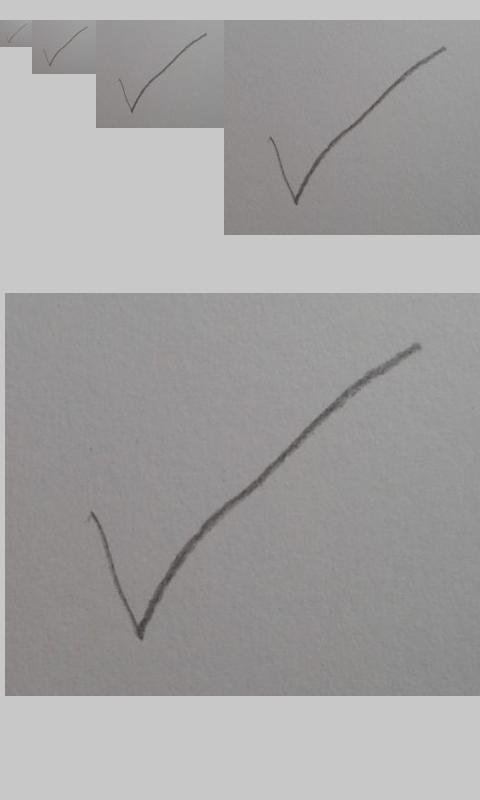check_box: (89, 345, 418, 641), (268, 46, 446, 205), (119, 33, 206, 114), (42, 27, 86, 66), (6, 23, 27, 43)
